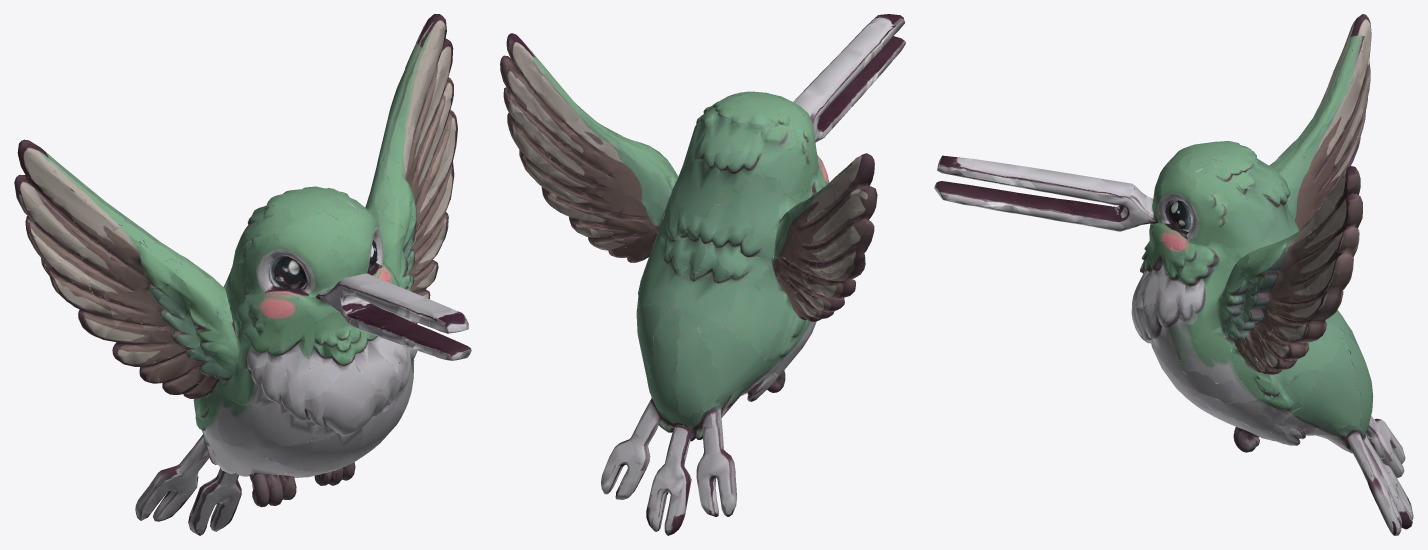
3 views of the same model, side by side, from view 1: azimuth 30°, elevation 25°; view 2: azimuth 150°, elevation 25°; view 3: azimuth 270°, elevation 25° (orthographic). The views are drawn at different scales.
Parts seen in each view (by area): view 1: Mesh_0; view 2: Mesh_0; view 3: Mesh_0.
Boxes of the visible parts, <box> form: Mesh_0: <box>14,14,471,535</box>; Mesh_0: <box>500,14,905,535</box>; Mesh_0: <box>934,14,1413,535</box>.
Bounding box in the file's own units: 1.74 × 1.9 × 1.84.
Materials: 1 (1 with a texture image).
